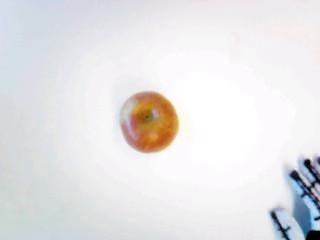apple: (117, 91, 177, 153)
hand: (269, 155, 319, 238)
